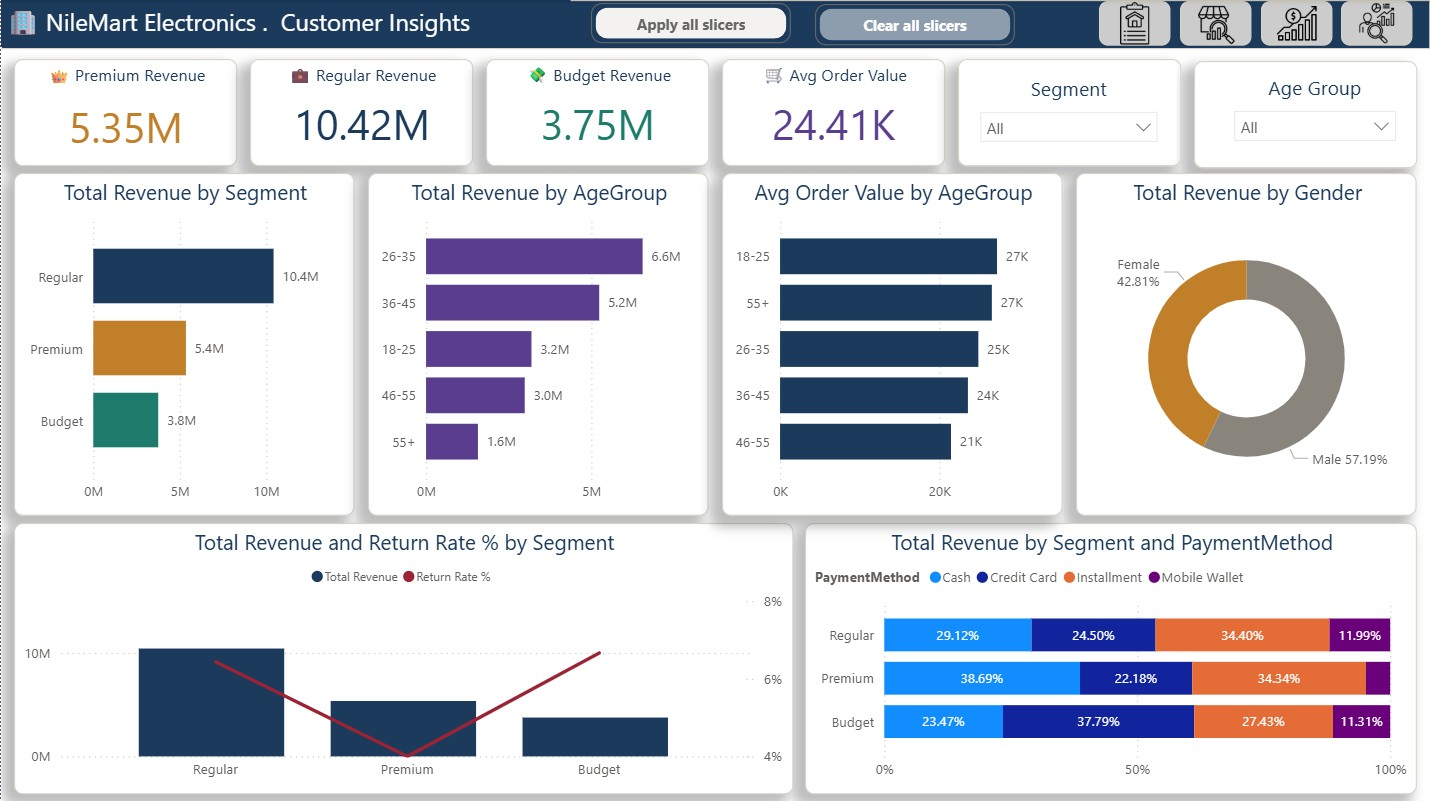

What the dashboard file says about the page in this screenshot:
{"tool":"powerbi","page":{"name":" Customer Insights","canvas":[1280,720],"ordinal":3},"visuals":[{"type":"shape","box":[0,0,1280,44],"z":0,"group":"g3"},{"type":"card","title":"👑 Premium Revenue","fields":{"Values":["_Measure.Total Revenue"]},"box":[11.7,52.6,200,96],"z":0},{"type":"card","title":"💼 Regular Revenue","fields":{"Values":["_Measure.Total Revenue"]},"box":[222.9,52.6,200,96],"z":1000},{"type":"card","title":"🛒 Avg Order Value","fields":{"Values":["_Measure.Avg Order Value"]},"box":[645.5,52.6,200,96],"z":2000},{"type":"card","title":"💸 Budget Revenue","fields":{"Values":["_Measure.Total Revenue"]},"box":[434.2,52.6,200,96],"z":3000},{"type":"group","id":"g1","title":"Group 3","box":[1068,55,200,96.3],"z":4000},{"type":"group","id":"g2","title":"Group 1","box":[856.8,52.6,200,96],"z":5000},{"type":"barChart","fields":{"Category":["Customers.Segment"],"Y":["_Measure.Total Revenue"]},"box":[11.6,154.9,305,307.2],"z":6000},{"type":"shape","box":[856.8,52.6,200,96],"z":7000,"group":"g2"},{"type":"shape","box":[1068,55,200,96.3],"z":7000,"group":"g1"},{"type":"clusteredBarChart","fields":{"Category":["Customers.AgeGroup"],"Y":["_Measure.Total Revenue"]},"box":[328.7,155,305,307.4],"z":7000},{"type":"slicer","title":"Age Group","fields":{"Values":["Customers.AgeGroup"]},"box":[1093.7,66.2,164.5,72],"z":8000,"group":"g1"},{"type":"donutChart","fields":{"Category":["Customers.Gender"],"Y":["_Measure.Total Revenue"]},"box":[962.7,154.9,305.4,307.2],"z":8000},{"type":"hundredPercentStackedBarChart","fields":{"Category":["Customers.Segment"],"Series":["Sales.PaymentMethod"],"Y":["_Measure.Total Revenue"]},"box":[720,468.4,548.1,242.7],"z":9000},{"type":"lineClusteredColumnComboChart","fields":{"Category":["Customers.Segment"],"Y":["_Measure.Total Revenue"],"Y2":["_Measure.Return Rate %"]},"box":[11.6,468.4,697.6,242.7],"z":10000},{"type":"slicer","title":"Segment","fields":{"Values":["Customers.Segment"]},"box":[866.2,66.6,178.8,72],"z":11000,"group":"g2"},{"type":"clusteredBarChart","fields":{"Category":["Customers.AgeGroup"],"Y":["_Measure.Avg Order Value"]},"box":[645.7,155,305,307.4],"z":11000},{"type":"group","id":"g3","title":"Group 2","box":[0,0,1280,44],"z":12000},{"type":"image","box":[1056,1,64,40],"z":13000,"group":"g3"},{"type":"actionButton","box":[729,3.6,179.1,36.7],"z":13000},{"type":"image","box":[983,1,64,40],"z":14000,"group":"g3"},{"type":"actionButton","box":[528.4,3,179.1,36],"z":14000},{"type":"image","box":[1128,1,64,40],"z":15000,"group":"g3"},{"type":"textbox","box":[0,0,509.6,42],"z":17000,"group":"g3"},{"type":"image","box":[1200,1,64,40],"z":18000,"group":"g3"}]}

Visuals, with their boxes in screenshot pixels (x1, y1, x2, y2), scaled from the page's 1280x720 canvas onto the 1430x801 screenshot:
shape: x1=0, y1=0, x2=1429, y2=49
"👑 Premium Revenue" card: x1=13, y1=59, x2=237, y2=165
"💼 Regular Revenue" card: x1=249, y1=59, x2=472, y2=165
"🛒 Avg Order Value" card: x1=721, y1=59, x2=945, y2=165
"💸 Budget Revenue" card: x1=485, y1=59, x2=709, y2=165
"Group 3" group: x1=1193, y1=61, x2=1417, y2=168
"Group 1" group: x1=957, y1=59, x2=1181, y2=165
barChart - Customers.Segment x _Measure.Total Revenue: x1=13, y1=172, x2=354, y2=514
shape: x1=957, y1=59, x2=1181, y2=165
shape: x1=1193, y1=61, x2=1417, y2=168
clusteredBarChart - Customers.AgeGroup x _Measure.Total Revenue: x1=367, y1=172, x2=708, y2=514
"Age Group" slicer: x1=1222, y1=74, x2=1406, y2=154
donutChart - Customers.Gender x _Measure.Total Revenue: x1=1076, y1=172, x2=1417, y2=514
hundredPercentStackedBarChart - Customers.Segment x Sales.PaymentMethod: x1=804, y1=521, x2=1417, y2=791
lineClusteredColumnComboChart - Customers.Segment x _Measure.Total Revenue: x1=13, y1=521, x2=792, y2=791
"Segment" slicer: x1=968, y1=74, x2=1167, y2=154
clusteredBarChart - Customers.AgeGroup x _Measure.Avg Order Value: x1=721, y1=172, x2=1062, y2=514
"Group 2" group: x1=0, y1=0, x2=1429, y2=49
image: x1=1180, y1=1, x2=1251, y2=46
actionButton: x1=814, y1=4, x2=1015, y2=45
image: x1=1098, y1=1, x2=1170, y2=46
actionButton: x1=590, y1=3, x2=790, y2=43
image: x1=1260, y1=1, x2=1332, y2=46
textbox: x1=0, y1=0, x2=569, y2=47
image: x1=1341, y1=1, x2=1412, y2=46
